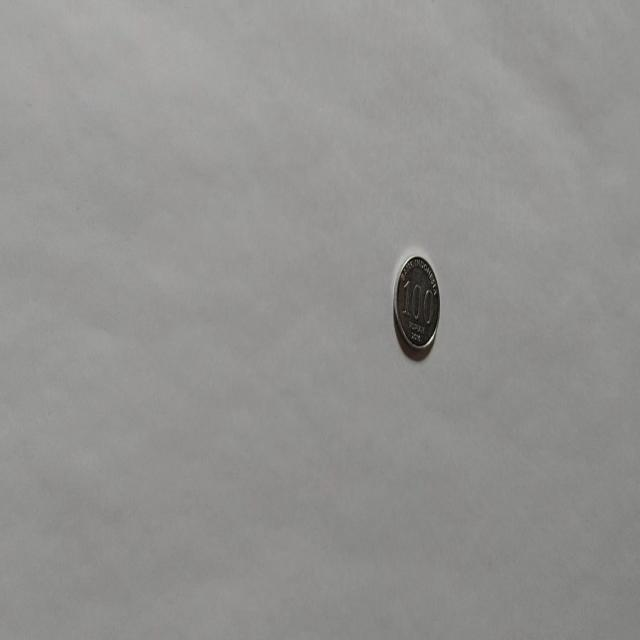seratus rupiah: (392, 253, 440, 355)
